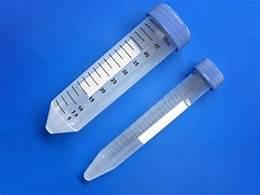Test tube: (20, 15, 226, 172)
